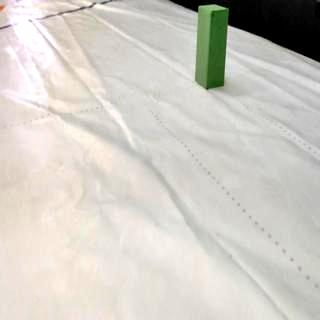greenbox: (196, 5, 228, 89)
